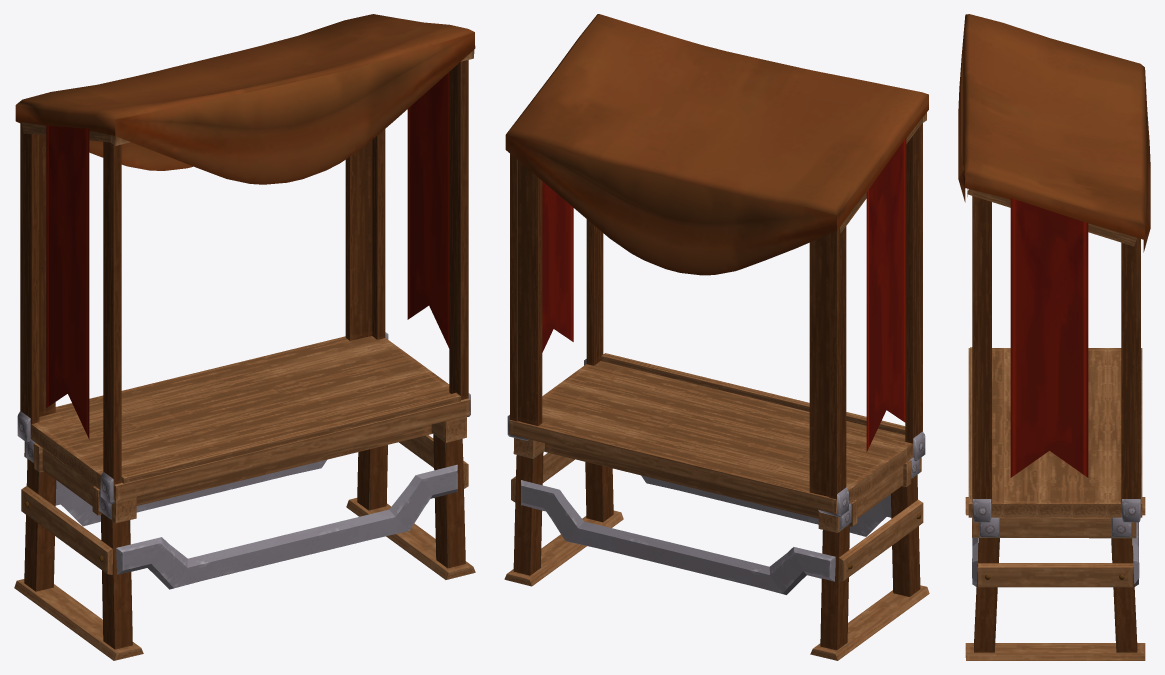
File: Stall_Empty.glb
The picture shows the model from 3 angles, left to right: view 1: azimuth 30°, elevation 25°; view 2: azimuth 150°, elevation 25°; view 3: azimuth 270°, elevation 25°; orthographic projection. The views are drawn at different scales.
Visible parts, largest first — view 1: Stall_Empty; view 2: Stall_Empty; view 3: Stall_Empty.
Boxes of the visible parts, x1,y1,x2,y2 form: Stall_Empty: (14, 14, 475, 660); Stall_Empty: (504, 14, 929, 660); Stall_Empty: (958, 14, 1150, 660).
Size of the model in its own units: 1.84 by 2.63 by 0.9324.
3 materials, 3 textured.
